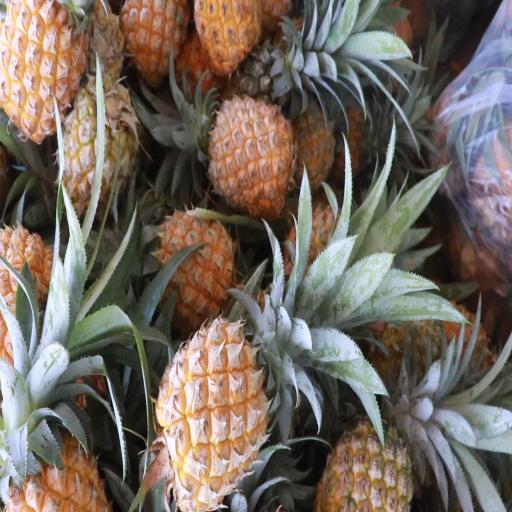------------------------------: (56, 82, 134, 218), (318, 407, 415, 512)
Pineapple - v8 v1: (154, 322, 268, 501), (3, 397, 103, 512), (1, 0, 79, 138), (209, 98, 295, 210), (152, 207, 234, 318), (118, 0, 191, 80), (192, 0, 262, 73)
